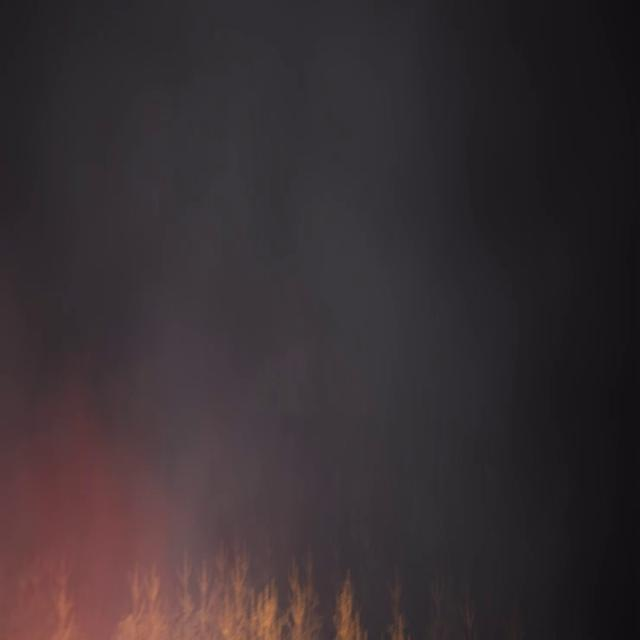smoke: (0, 0, 574, 639)
